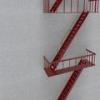stairs: (52, 12, 86, 65), (57, 60, 90, 100)
